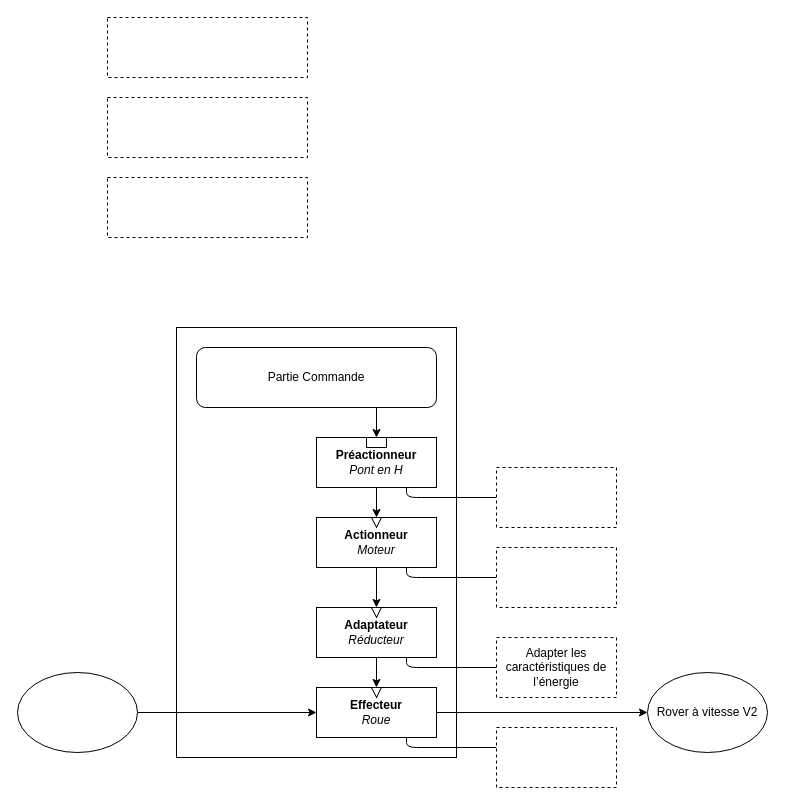
Image size: 785x805. Some labels were removed from this diagram. The centre of each missing label's shape, as x and y in pixels:
"Agir directement sur la MOE du sous - système grâce à l’énergie" goes at (556,757).
"Convertir l’énergie d’entrée en une utilisable pour l’action" goes at (556,577).
"Gérer l’énergie fournie à un actionneur" goes at (556,497).
"Rover à vitesse V1" goes at (77,712).
